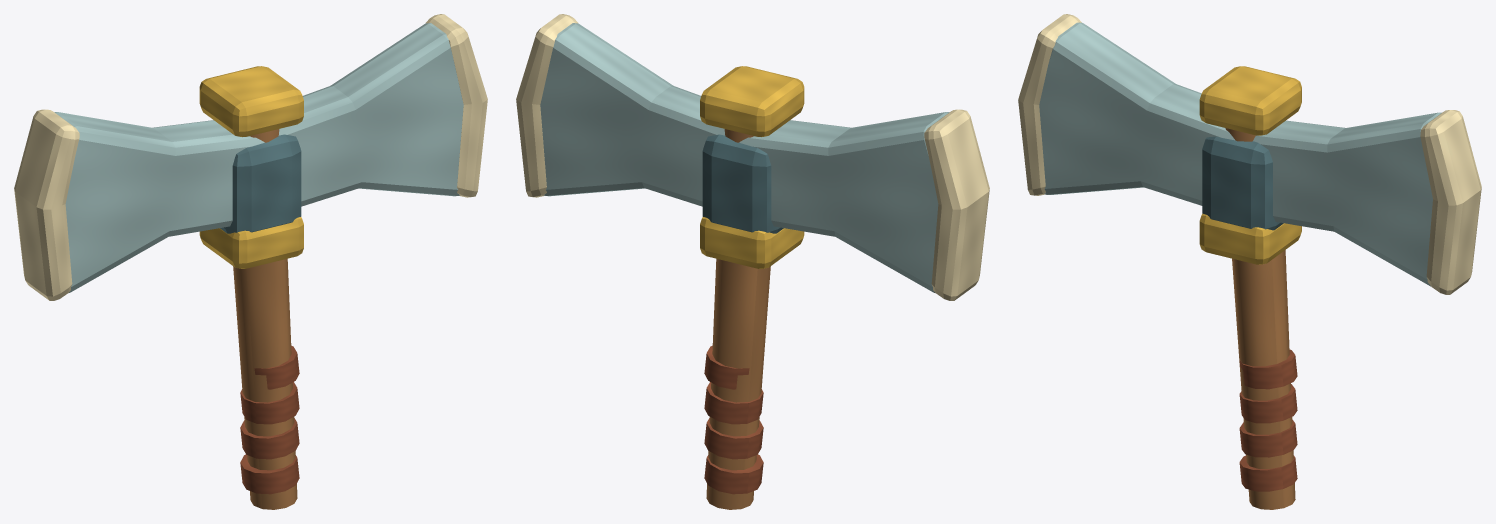
Rendered from axe-reinforced-double.glb.
The picture shows the model from 3 angles, left to right: view 1: azimuth 30°, elevation 25°; view 2: azimuth 150°, elevation 25°; view 3: azimuth 330°, elevation 25°; orthographic projection. The views are drawn at different scales.
Visible parts, largest first — view 1: axe-reinforced-double-mesh; view 2: axe-reinforced-double-mesh; view 3: axe-reinforced-double-mesh.
Part boxes in pixels (left/top/right/bottom): axe-reinforced-double-mesh: left=14, top=14, right=487, bottom=509; axe-reinforced-double-mesh: left=516, top=14, right=989, bottom=509; axe-reinforced-double-mesh: left=1018, top=14, right=1481, bottom=509.
Bounding box in the file's own units: 1.22 × 1.13 × 0.2.
Materials: 1 (1 with a texture image).
